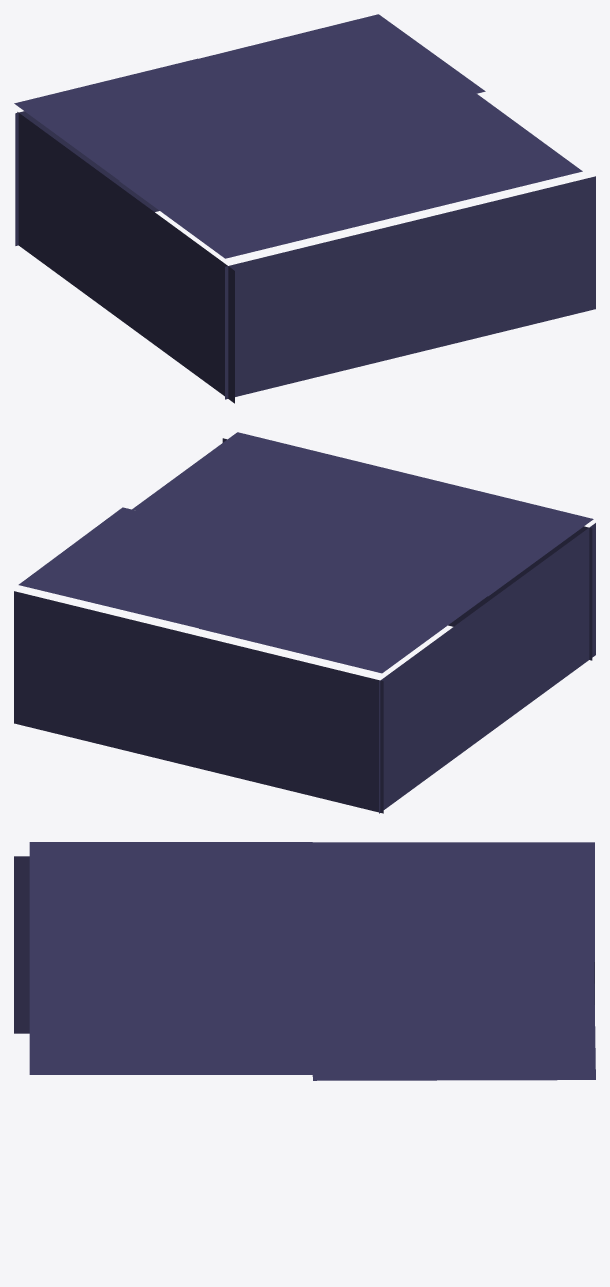
Rendered from wall fbx.fbx.
3 renders of one model, top to bottom at view 1: azimuth 30°, elevation 25°; view 2: azimuth 150°, elevation 25°; view 3: azimuth 270°, elevation 25°, orthographic. The views are drawn at different scales.
Parts seen in each view (by area): view 1: Plane.015, Plane.010, Plane.016, Plane.018, Plane.017, Plane.020, Plane.007; view 2: Plane.007, Plane.010, Plane.016, Plane.018, Plane.017, Plane.020, Plane.015; view 3: Plane.016, Plane.018, Plane.017, Plane.020, Plane.010.
Part boxes in pixels (x1,y1,x2,y2): Plane.015: (225, 176, 595, 399); Plane.010: (17, 112, 234, 403); Plane.016: (196, 14, 485, 136); Plane.018: (119, 136, 408, 258); Plane.017: (14, 58, 301, 180); Plane.020: (304, 94, 582, 213); Plane.007: (15, 111, 159, 245); Plane.007: (14, 591, 383, 813); Plane.010: (379, 523, 595, 813); Plane.016: (18, 507, 305, 628); Plane.018: (306, 474, 593, 596); Plane.017: (199, 552, 487, 673); Plane.020: (132, 432, 410, 551); Plane.015: (222, 438, 592, 660); Plane.016: (311, 960, 595, 1080); Plane.018: (29, 842, 312, 961); Plane.017: (312, 842, 594, 961); Plane.020: (29, 961, 312, 1074); Plane.010: (14, 856, 594, 1033).
Size of the model in its own units: 32466 by 11829 by 33008.
